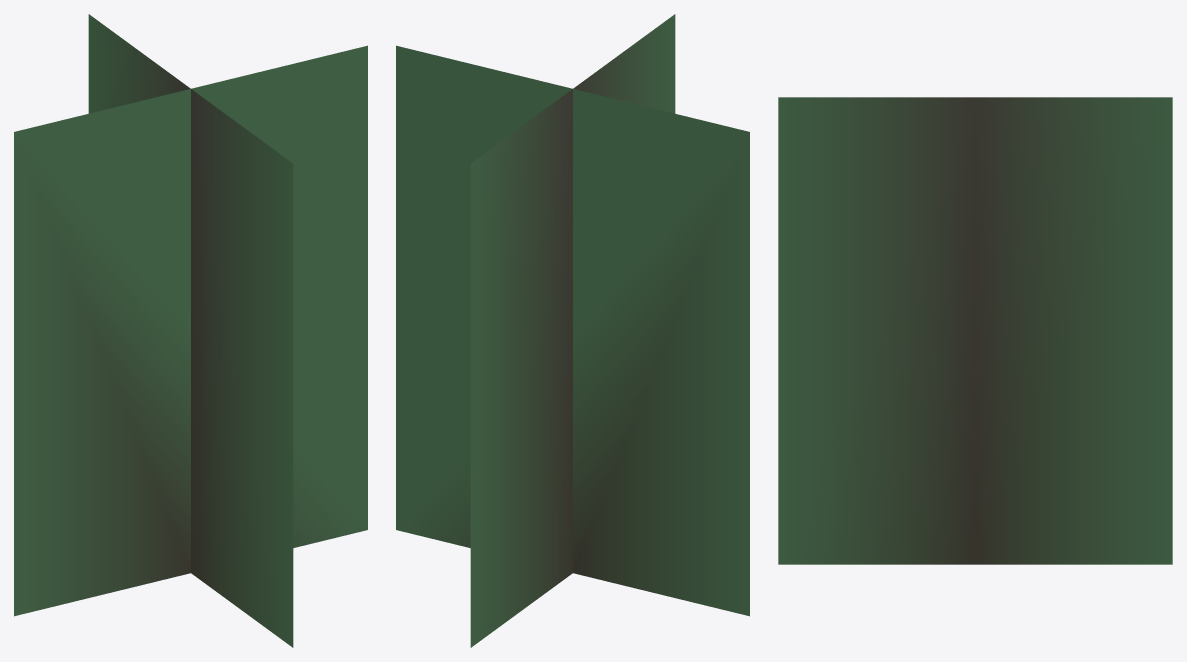
The model's file is tree-pine-large.glb.
3 renders of one model, left to right at view 1: azimuth 30°, elevation 25°; view 2: azimuth 150°, elevation 25°; view 3: azimuth 270°, elevation 25°, orthographic. The views are drawn at different scales.
Parts seen in each view (by area): view 1: tree-pine-large; view 2: tree-pine-large; view 3: tree-pine-large.
Part boxes in pixels (box(x1,y1,x2,y2)): tree-pine-large: box(14, 14, 367, 647); tree-pine-large: box(396, 14, 749, 647); tree-pine-large: box(778, 97, 1172, 564).
Size of the model in its own units: 1.3 by 1.7 by 1.3.
